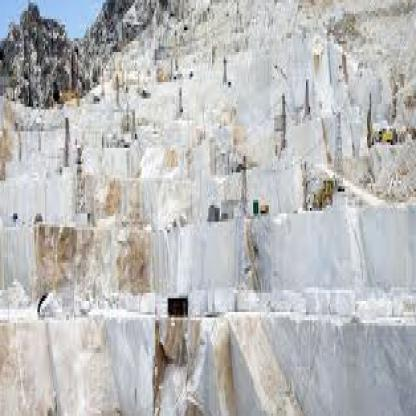Metamorphic_Marble: (213, 296, 416, 413), (1, 282, 166, 413), (248, 186, 366, 296)
